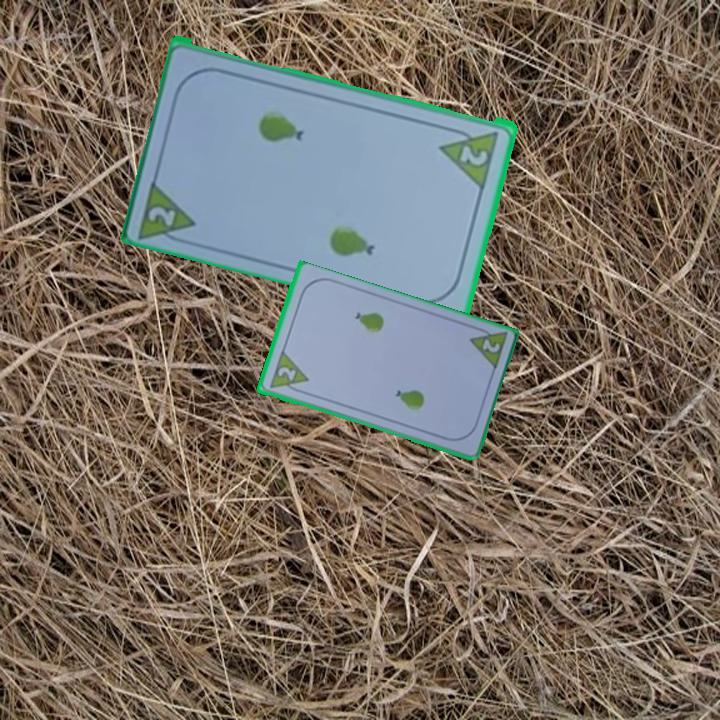2p: (135, 174, 200, 248), (265, 349, 311, 397), (456, 141, 491, 168), (478, 335, 503, 356)
